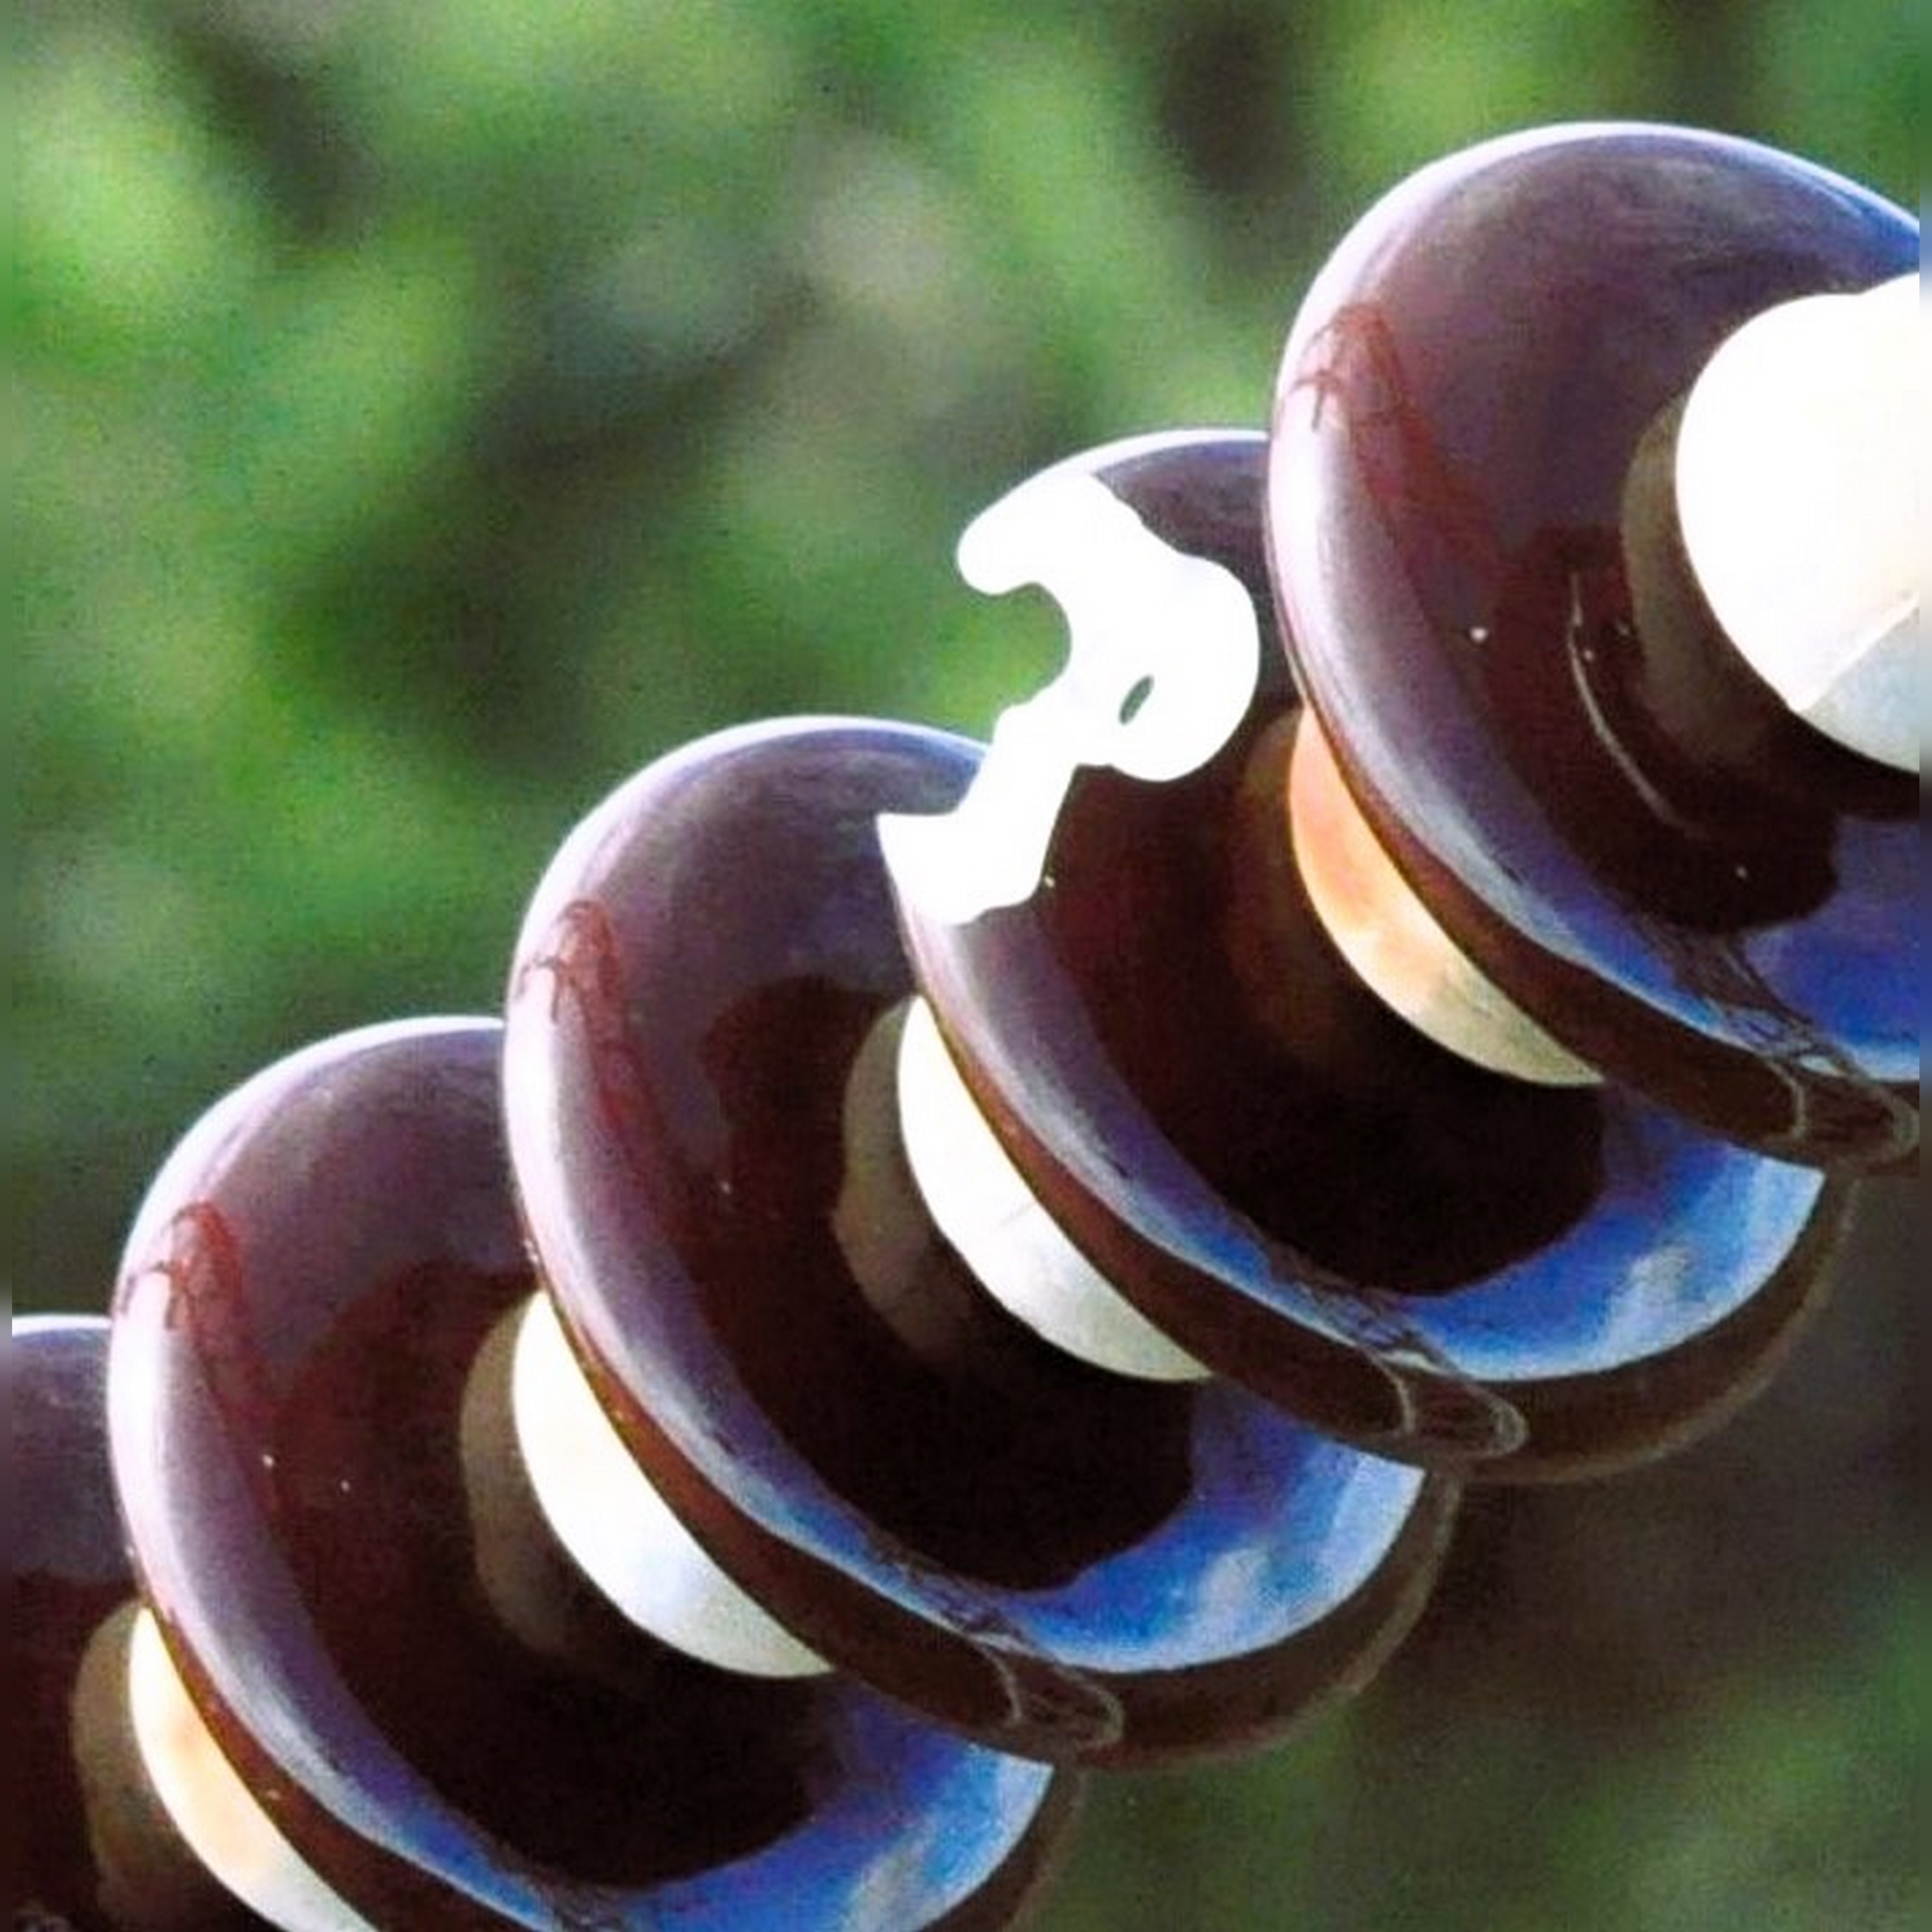insulator breakage: (800, 396, 1725, 1458)
